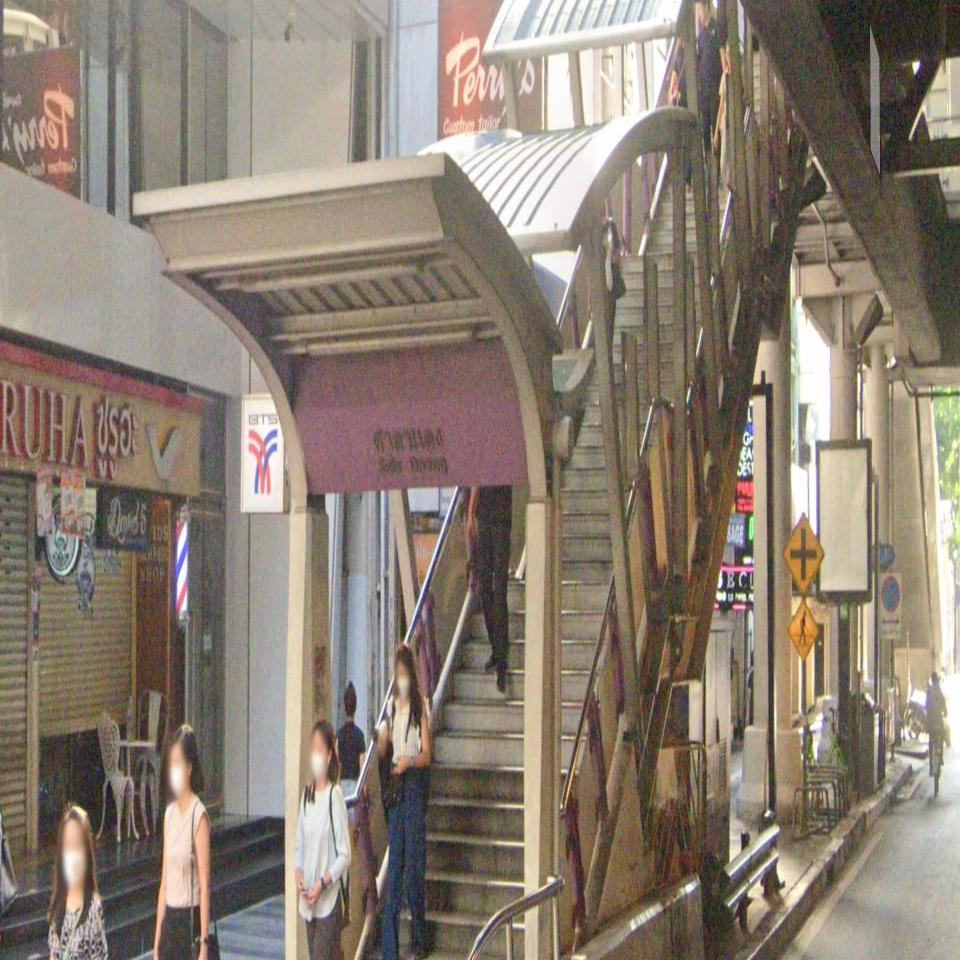signage: (238, 392, 528, 516), (293, 392, 528, 496)
